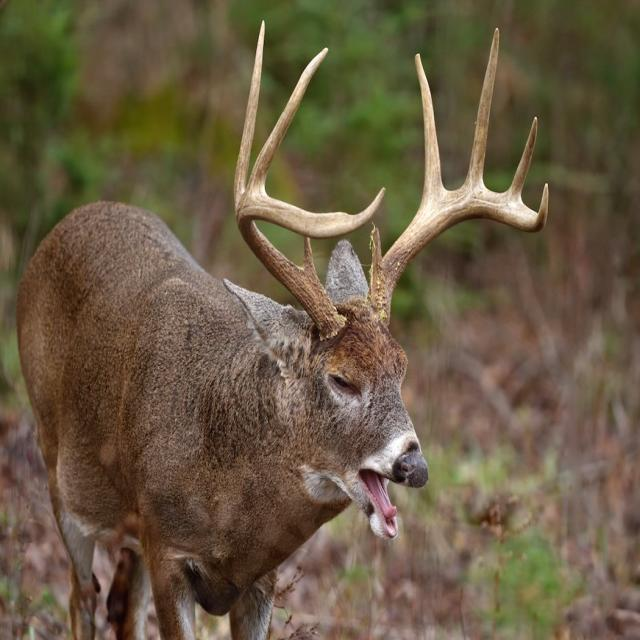L-F: (370, 182, 549, 327)
L-G1: (371, 227, 382, 273)
L-G2: (414, 52, 445, 198)
L-G3: (465, 27, 500, 186)
L-G4: (507, 115, 538, 197)
R-F: (237, 187, 386, 341)
R-G1: (302, 238, 318, 279)
R-G2: (234, 20, 266, 222)
R-G3: (246, 47, 330, 195)
